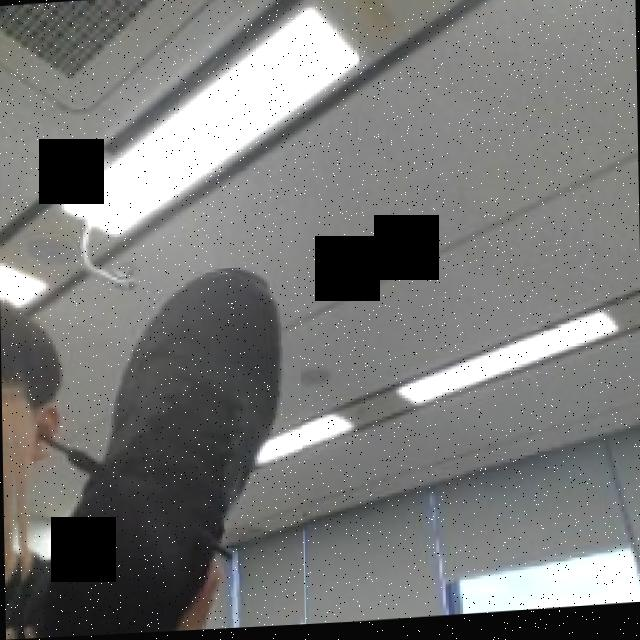shoe: (0, 202, 304, 640)
